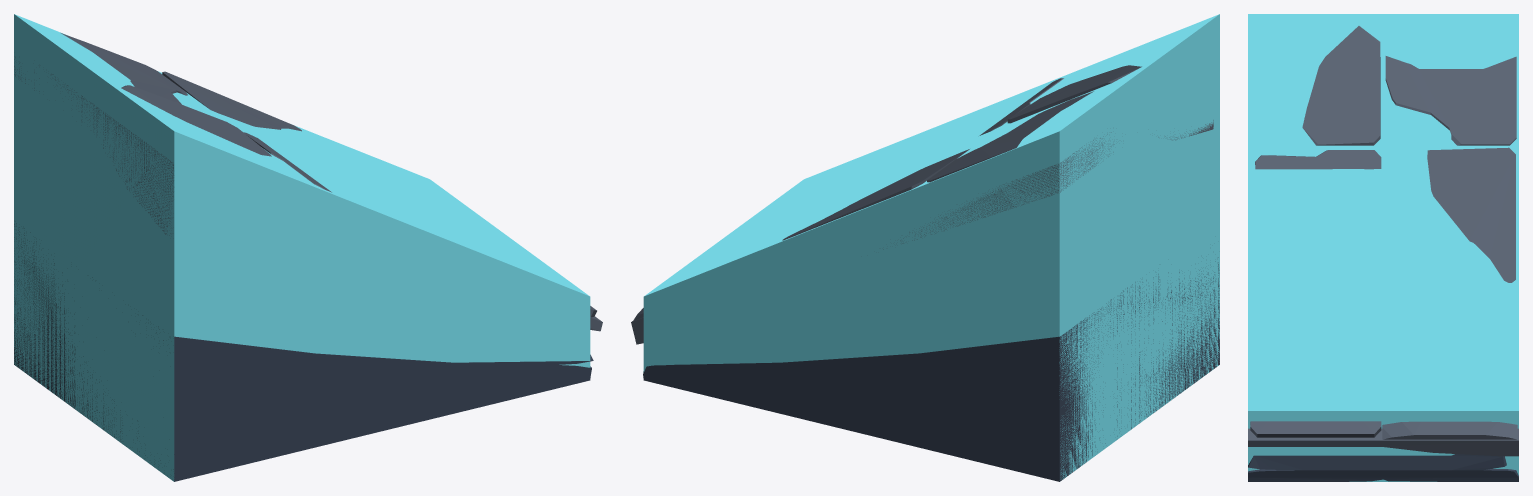
Rendered from PBOX23_ Slope_FLA_01.FBX.
The picture shows the model from 3 angles, left to right: view 1: azimuth 30°, elevation 25°; view 2: azimuth 150°, elevation 25°; view 3: azimuth 270°, elevation 25°; orthographic projection. The views are drawn at different scales.
Visible parts, largest first — view 1: PBOX23_ Slope_FLA_01, PBOX23_SUB_TAB_FlA_002, PBOX23_SUB_FLA_003; view 2: PBOX23_ Slope_FLA_01, PBOX23_SUB_TAB_FlA_002, PBOX23_SUB_FLA_003; view 3: PBOX23_ Slope_FLA_01, PBOX23_SUB_FLA_003, PBOX23_SUB_TAB_FlA_002.
Part boxes in pixels (box(x1,y1,x2,y2)): PBOX23_ Slope_FLA_01: box(14, 14, 590, 481); PBOX23_SUB_TAB_FlA_002: box(14, 223, 593, 481); PBOX23_SUB_FLA_003: box(14, 33, 602, 331); PBOX23_ Slope_FLA_01: box(643, 14, 1219, 479); PBOX23_SUB_TAB_FlA_002: box(643, 257, 1219, 481); PBOX23_SUB_FLA_003: box(631, 65, 1213, 344); PBOX23_ Slope_FLA_01: box(1248, 14, 1518, 481); PBOX23_SUB_FLA_003: box(1248, 26, 1518, 456); PBOX23_SUB_TAB_FlA_002: box(1248, 454, 1518, 481).
Size of the model in its own units: 18.57 by 14.5 by 12.
